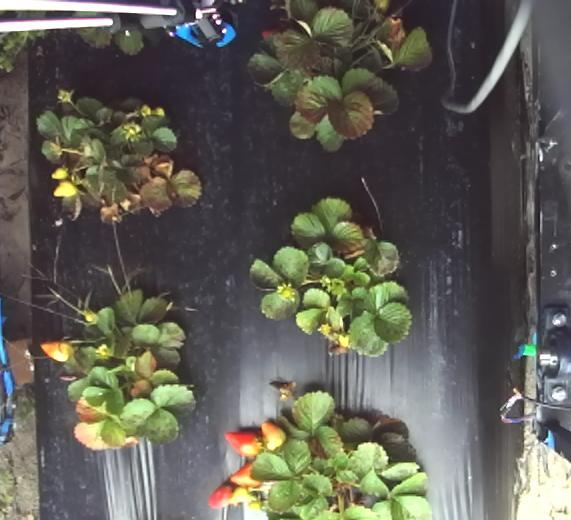mature: (224, 429, 265, 457), (230, 459, 265, 487), (206, 482, 238, 511)
